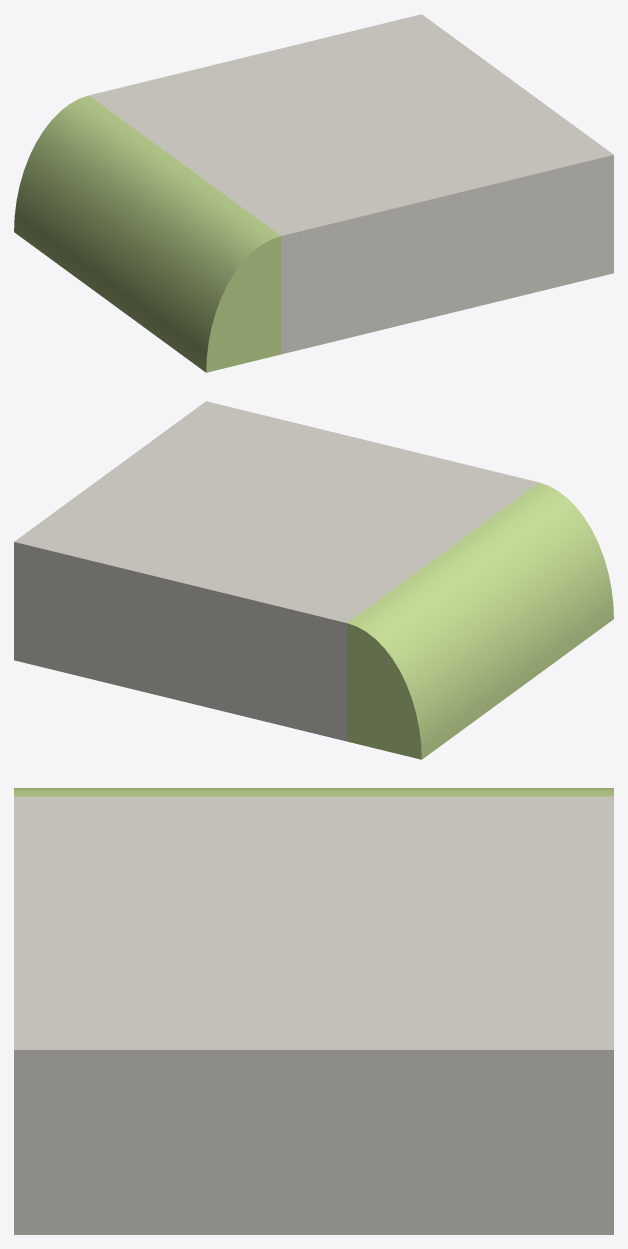
Rendered from Building Roof 12.fbx.
The picture shows the model from 3 angles, top to bottom: view 1: azimuth 30°, elevation 25°; view 2: azimuth 150°, elevation 25°; view 3: azimuth 270°, elevation 25°; orthographic projection. The views are drawn at different scales.
Parts seen in each view (by area): view 1: Building Roof 12; view 2: Building Roof 12; view 3: Building Roof 12.
Boxes of the visible parts, bbox=[...] form: Building Roof 12: bbox=[14, 14, 613, 372]; Building Roof 12: bbox=[14, 401, 613, 759]; Building Roof 12: bbox=[14, 788, 613, 1234].
Bounding box in the file's own units: 1.22 × 0.34 × 1.
